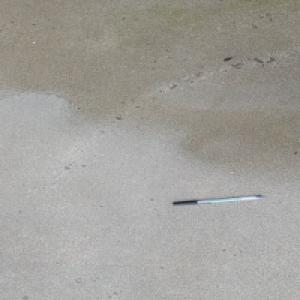Pen: (172, 194, 264, 206)
